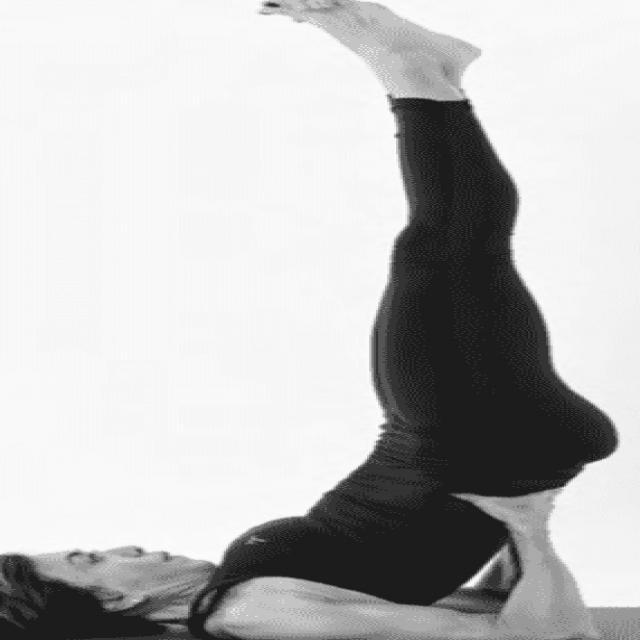yoga-pose shoulderstand: (8, 4, 626, 639)
